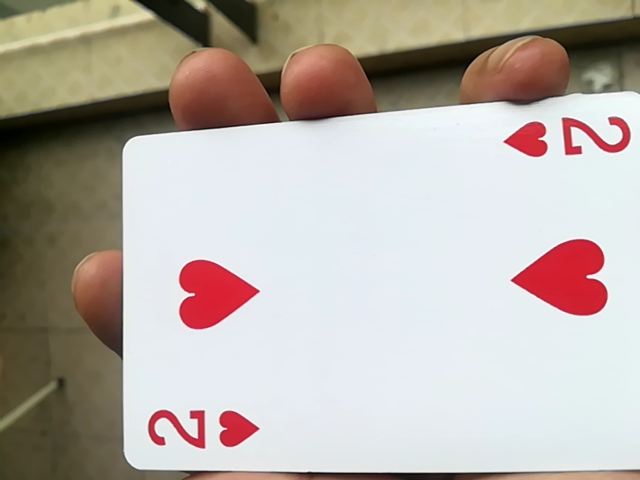hx 2: (107, 102, 638, 480)
